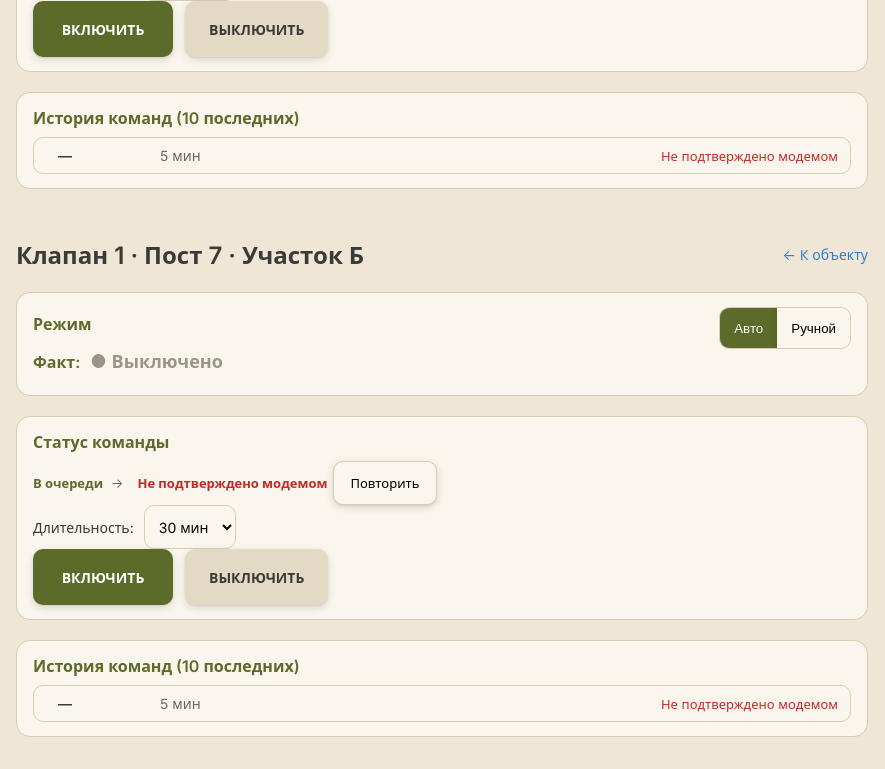
Test: FIX-2: повтор с исходной длительностью › определение команды не найдено → ошибка показана, не исключение
(page scrolled)
Step 1. Click the button "Повторить" → {"x": 385, "y": 483}, box x1=334 y1=461 x2=436 y2=505
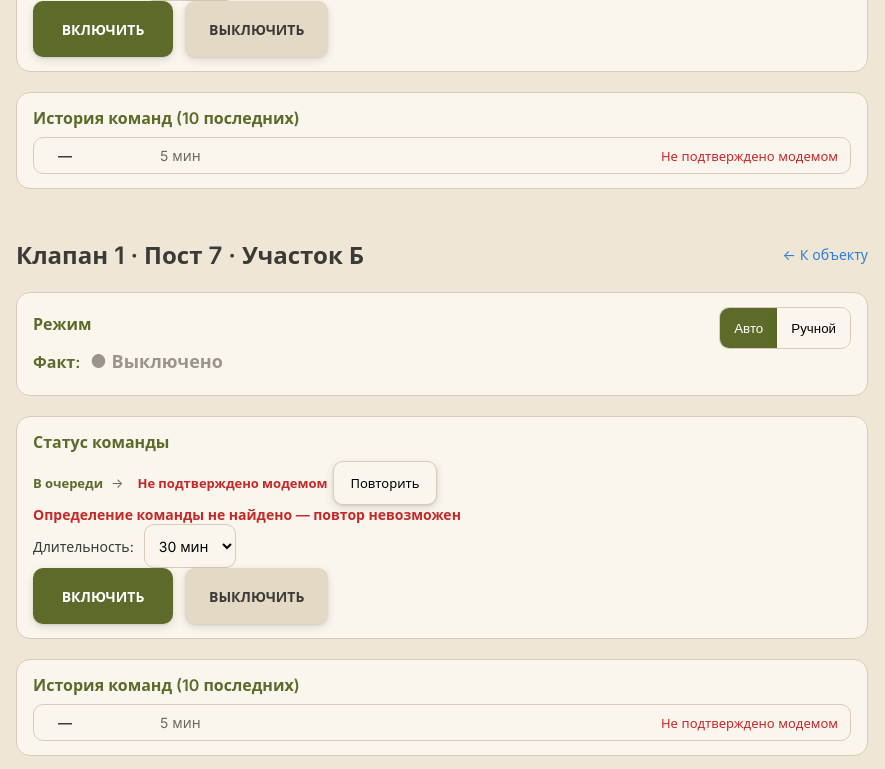
Now the text "Определение команды не найдено — повтор невозможен" is shown, box x1=33 y1=506 x2=461 y2=523
